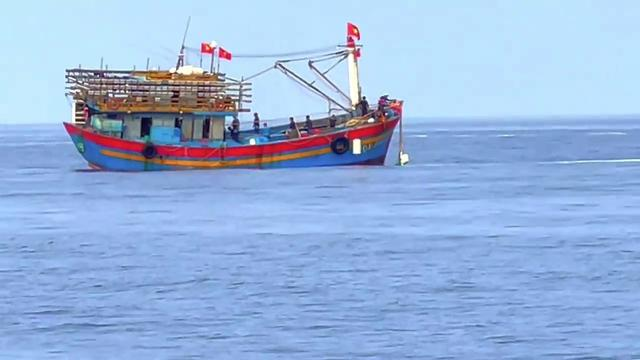Ship: (59, 42, 408, 172)
